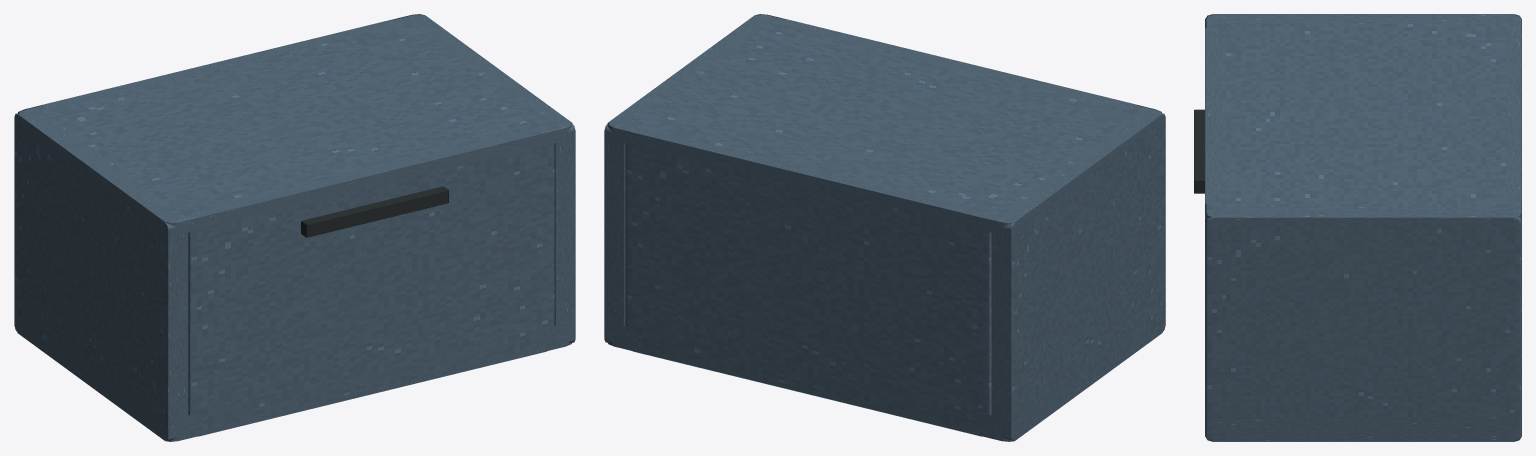
Rendered from medical-box.glb.
The picture shows the model from 3 angles, left to right: view 1: azimuth 30°, elevation 25°; view 2: azimuth 150°, elevation 25°; view 3: azimuth 270°, elevation 25°; orthographic projection. The views are drawn at different scales.
Parts seen in each view (by area): view 1: edge (×2), lid, side (×2), bottom, grip; view 2: edge (×2), lid, side (×2), bottom; view 3: side (×2), lid, bottom, edge (×2), grip.
Boxes of the visible parts, x1,y1,x2,y2 form: edge (×2): [43, 19, 555, 436]; lid: [17, 14, 572, 234]; side (×2): [14, 15, 575, 441]; bottom: [17, 323, 571, 441]; grip: [301, 186, 448, 237]; edge (×2): [624, 19, 1136, 436]; lid: [607, 14, 1162, 234]; side (×2): [604, 15, 1165, 441]; bottom: [608, 323, 1162, 441]; side (×2): [1205, 14, 1521, 441]; lid: [1205, 14, 1521, 230]; bottom: [1212, 418, 1514, 441]; edge (×2): [1205, 28, 1521, 203]; grip: [1194, 109, 1204, 193].
Bounding box in the file's own units: 0.35 × 0.18 × 0.2381.
2 materials, 2 textured.
